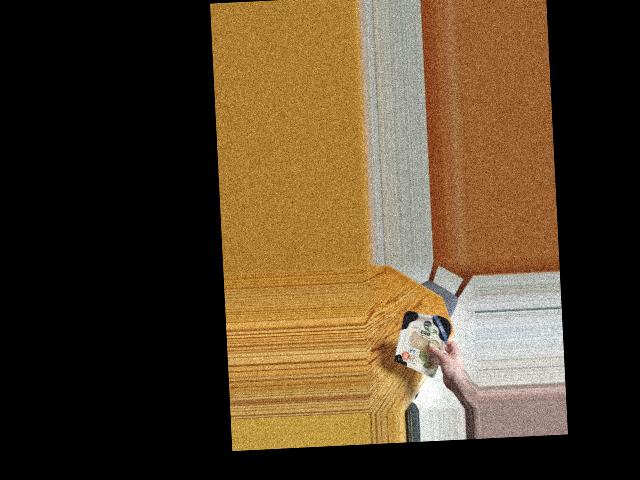cheese: (393, 307, 455, 369)
